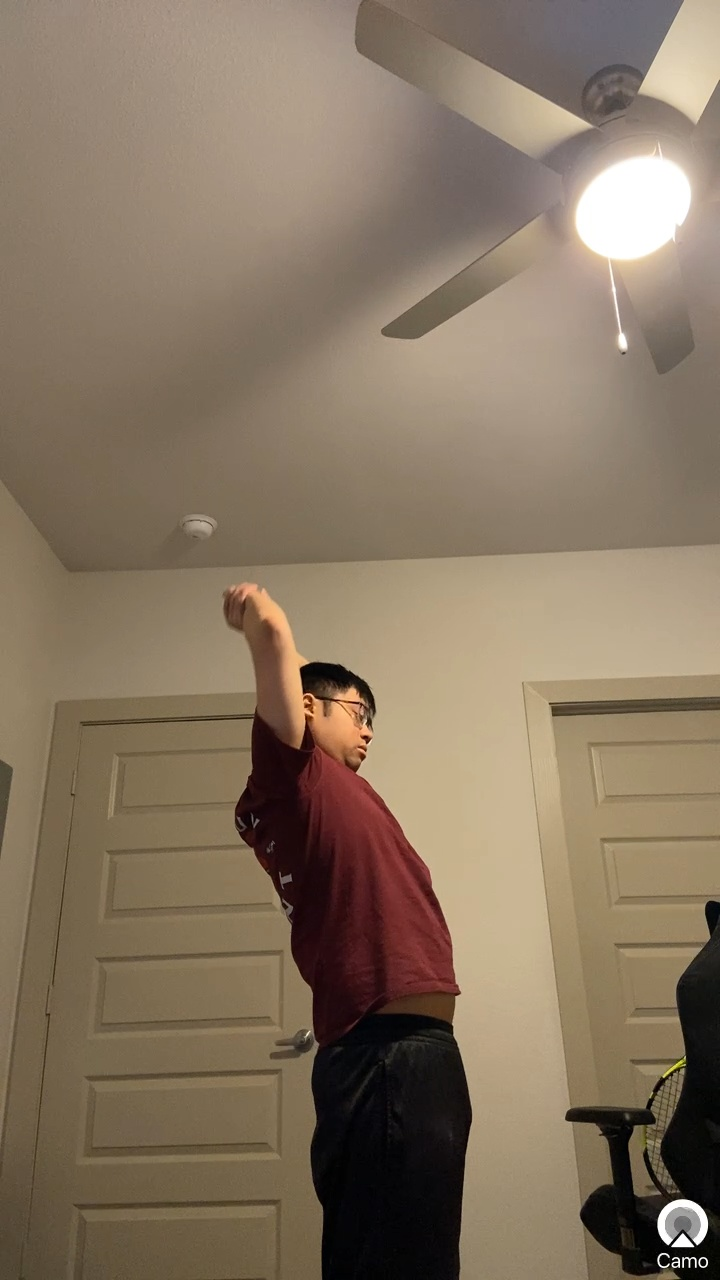Person: (163, 568, 515, 1280)
